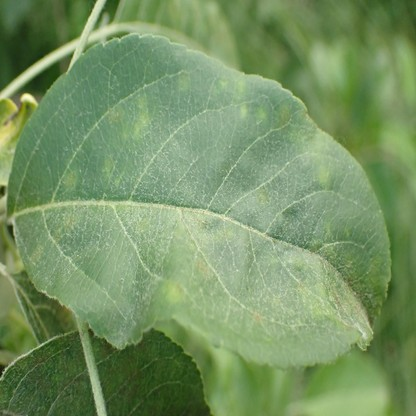powdery_mildew: (321, 226, 370, 339)
scab: (99, 342, 157, 416), (31, 353, 89, 401), (291, 109, 327, 156), (297, 284, 329, 319), (133, 87, 150, 138), (361, 255, 381, 296), (173, 219, 194, 251), (55, 304, 77, 332), (162, 276, 184, 303), (195, 257, 212, 280), (276, 105, 291, 130), (284, 251, 303, 269), (317, 165, 331, 189), (109, 104, 125, 124), (29, 242, 43, 263), (65, 170, 79, 190), (102, 155, 114, 175), (63, 212, 76, 230), (254, 105, 266, 123), (135, 216, 148, 232), (179, 73, 189, 92), (114, 173, 124, 188), (258, 188, 268, 203), (236, 79, 246, 93), (216, 79, 228, 90), (252, 309, 260, 321), (121, 129, 128, 142), (239, 104, 246, 117)
